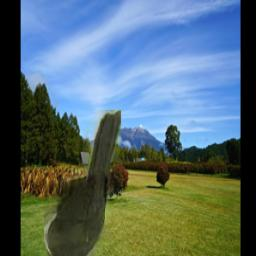Cuckoo: (44, 110, 121, 256)
